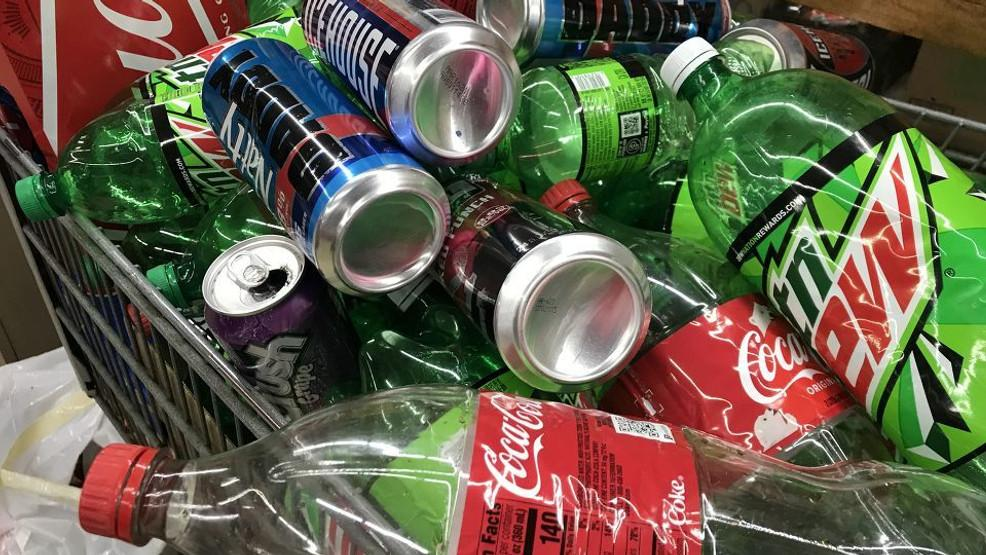metal: (198, 0, 526, 298), (418, 172, 654, 377), (187, 239, 353, 406), (474, 0, 728, 59), (731, 10, 884, 79)
